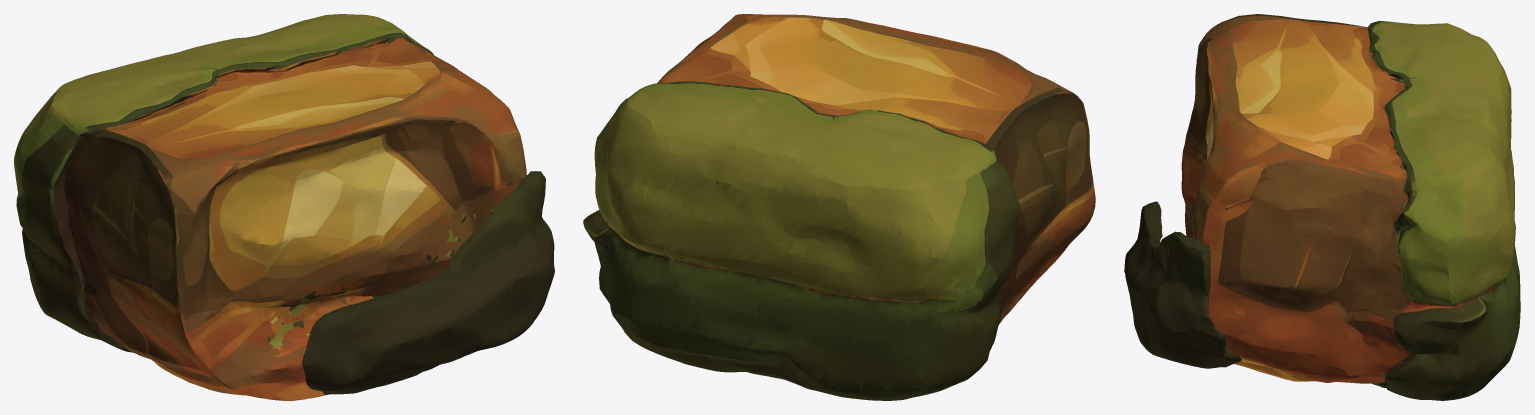
The model's file is item_resin.glb.
The picture shows the model from 3 angles, left to right: view 1: azimuth 30°, elevation 25°; view 2: azimuth 150°, elevation 25°; view 3: azimuth 270°, elevation 25°; orthographic projection. The views are drawn at different scales.
Parts seen in each view (by area): view 1: item_resin; view 2: item_resin; view 3: item_resin.
Part boxes in pixels (box(x1,y1,x2,y2)): item_resin: box(14, 14, 554, 400); item_resin: box(583, 14, 1095, 400); item_resin: box(1124, 14, 1520, 400).
Size of the model in its own units: 0.12 by 0.0792 by 0.1053.
1 material, 1 textured.
